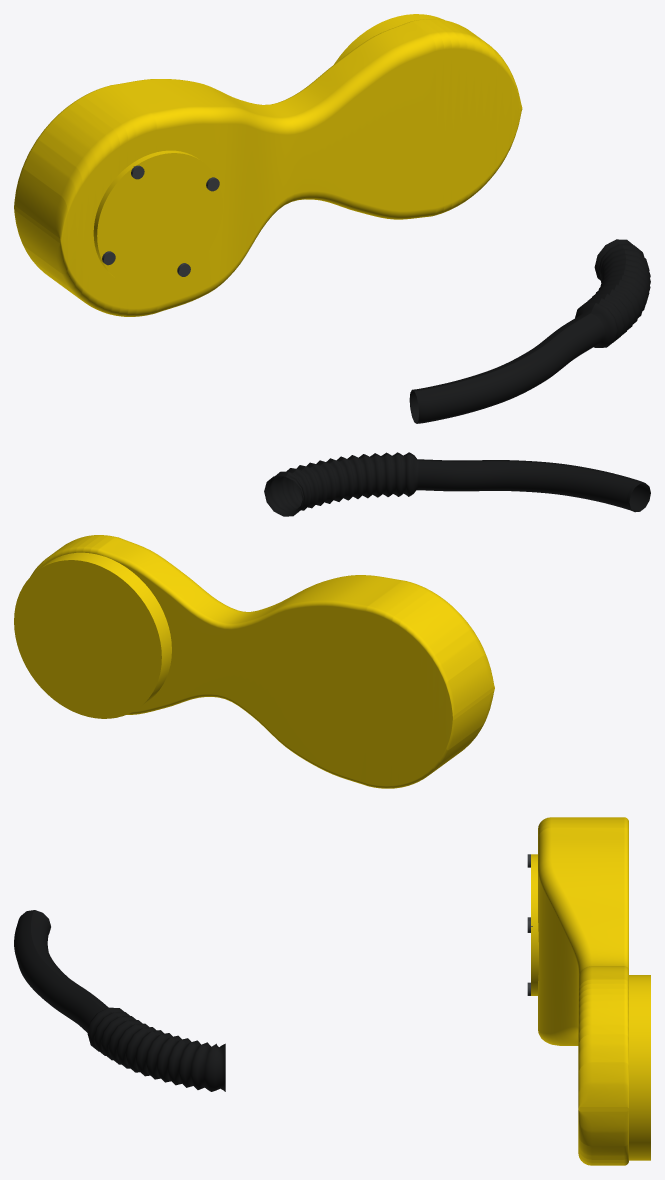
The picture shows the model from 3 angles, top to bottom: view 1: azimuth 30°, elevation 25°; view 2: azimuth 150°, elevation 25°; view 3: azimuth 270°, elevation 25°; orthographic projection. The views are drawn at different scales.
Parts seen in each view (by area): view 1: arm1, j1_cover, hose_front, j2_cover; view 2: arm1, j2_cover, hose_front; view 3: arm1, hose_front, j2_cover, j1_cover.
Boxes of the visible parts, bbox=[...] form: arm1: bbox=[14, 19, 522, 316]; j1_cover: bbox=[93, 150, 222, 288]; hose_front: bbox=[409, 239, 650, 423]; j2_cover: bbox=[334, 14, 444, 64]; arm1: bbox=[30, 535, 494, 788]; j2_cover: bbox=[14, 552, 171, 718]; hose_front: bbox=[264, 452, 650, 516]; arm1: bbox=[538, 817, 628, 1165]; hose_front: bbox=[14, 910, 225, 1091]; j2_cover: bbox=[629, 975, 650, 1160]; j1_cover: bbox=[531, 854, 538, 995].
Bounding box in the file's own units: 0.322 × 0.128 × 0.3774.
